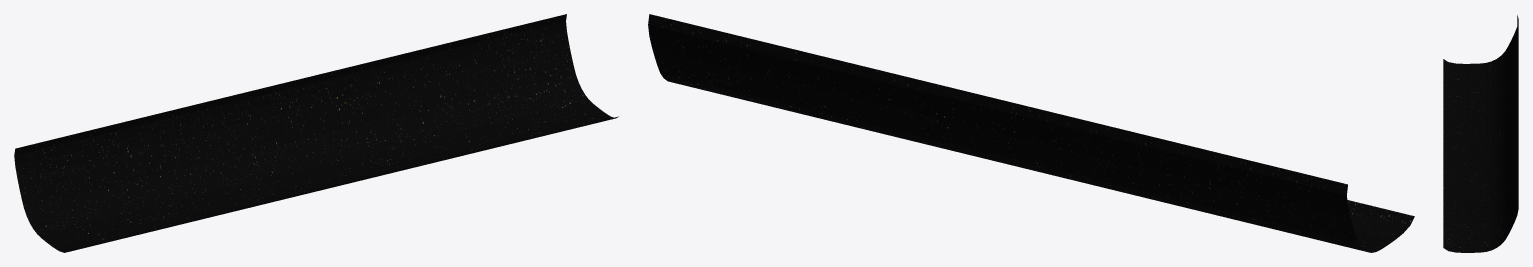
File: space_lane.fbx
The picture shows the model from 3 angles, left to right: view 1: azimuth 30°, elevation 25°; view 2: azimuth 150°, elevation 25°; view 3: azimuth 270°, elevation 25°; orthographic projection. The views are drawn at different scales.
Parts seen in each view (by area): view 1: Cylinder; view 2: Cylinder; view 3: Cylinder.
Boxes of the visible parts, left/top/right/bottom form: Cylinder: left=14, top=14, right=618, bottom=252; Cylinder: left=648, top=14, right=1414, bottom=252; Cylinder: left=1443, top=15, right=1518, bottom=252.
Size of the model in its own units: 10.12 by 7.38 by 60.
